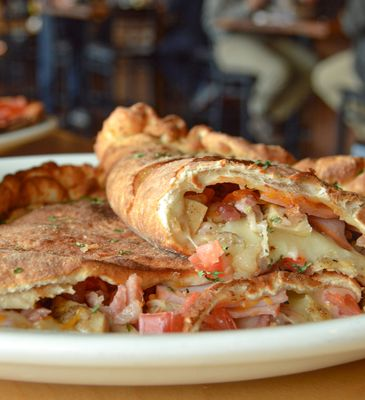soup: (1, 196, 206, 333)
